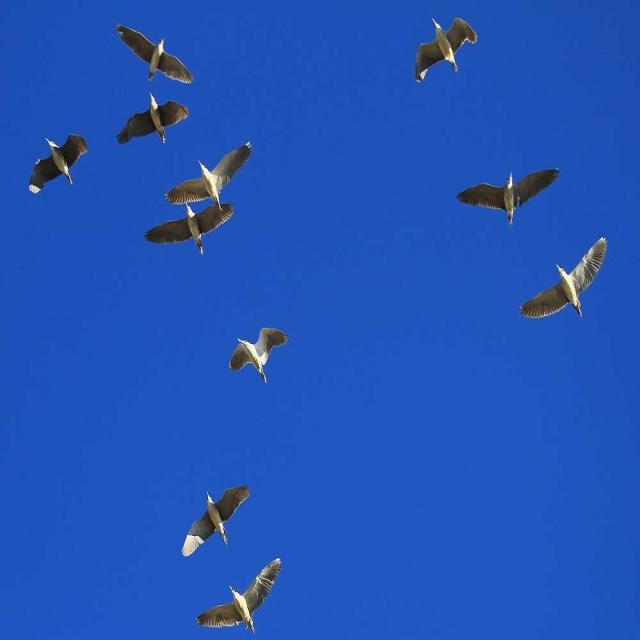bird: (519, 236, 610, 322), (196, 557, 284, 638), (454, 170, 559, 226), (162, 143, 255, 205), (184, 485, 254, 560), (143, 202, 237, 254), (115, 26, 195, 86), (416, 21, 478, 86), (117, 98, 193, 147), (31, 136, 91, 197), (230, 325, 290, 384)
